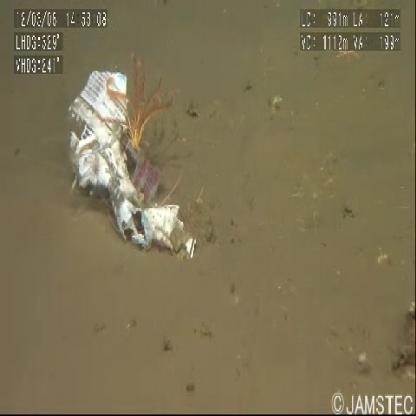Rác: (65, 57, 205, 279)
